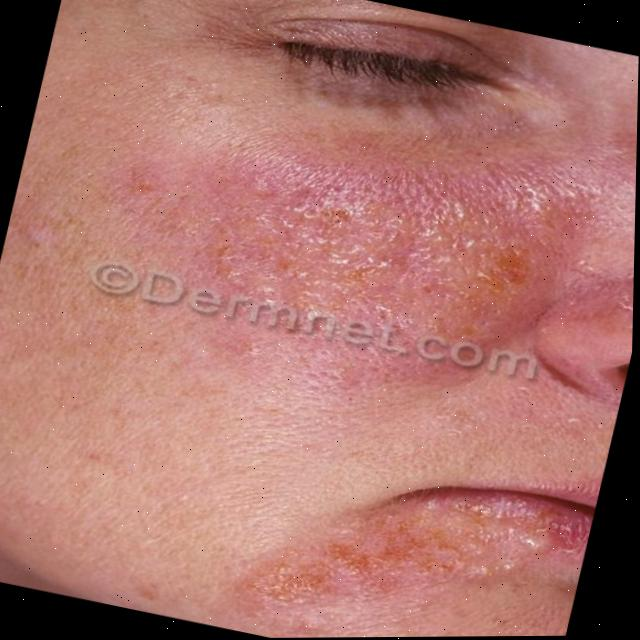Eczema: (61, 82, 584, 366), (211, 444, 591, 638)
